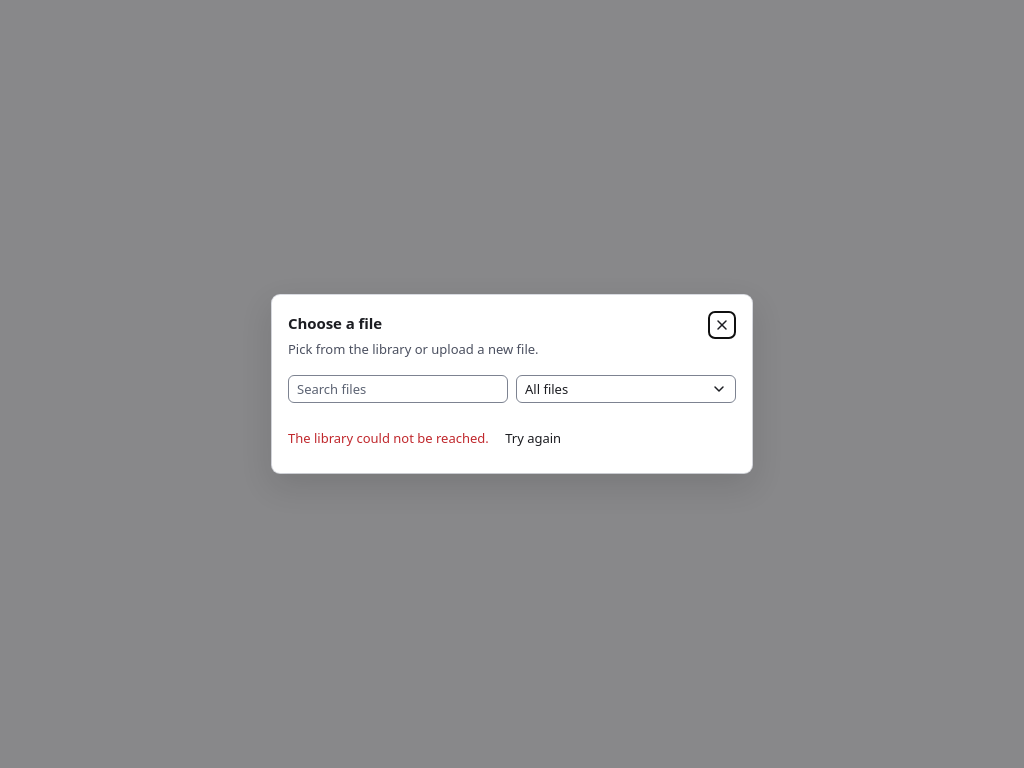
Test case: the media picker and control › shows a failed library as a retryable error
Expected: the message "The library could not be reached. Try again" is shown, [288,424,574,452]
Step 1. Click the button "Try again" → click(533, 438), box [492,424,574,452]
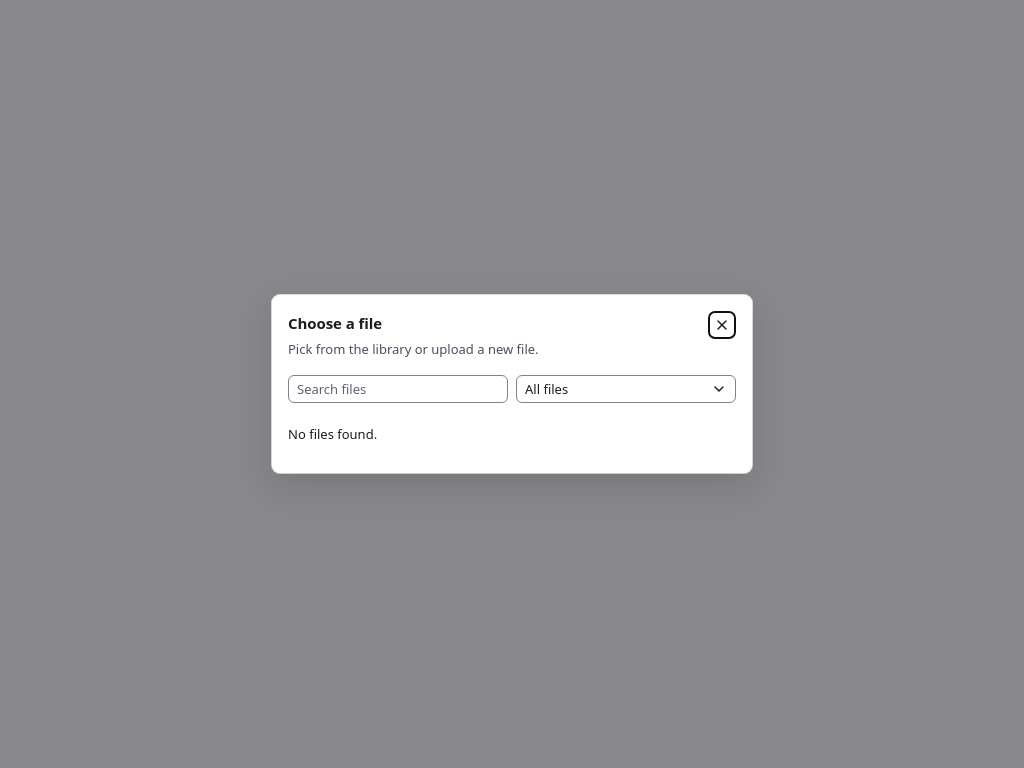
Result: the text "No files found." is shown at [288,425,377,443]
